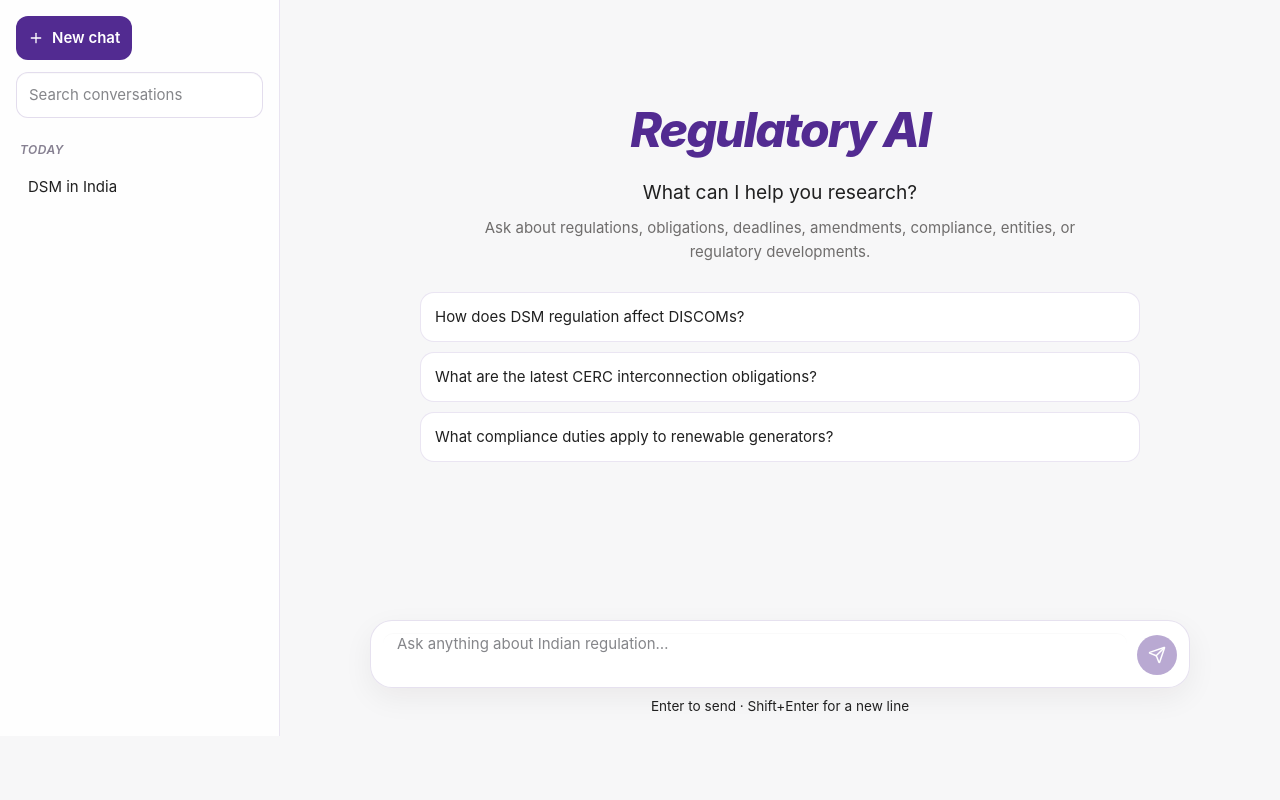
Test: AskConversationWorkspace › restores a conversation from history without regenerating
The width and height of the screenshot is (1280, 800).
What coordinates should you click on to do the following:
click the button "DSM in India"
I would click on:
 (140, 187)
Its box is [16,165,263,209].
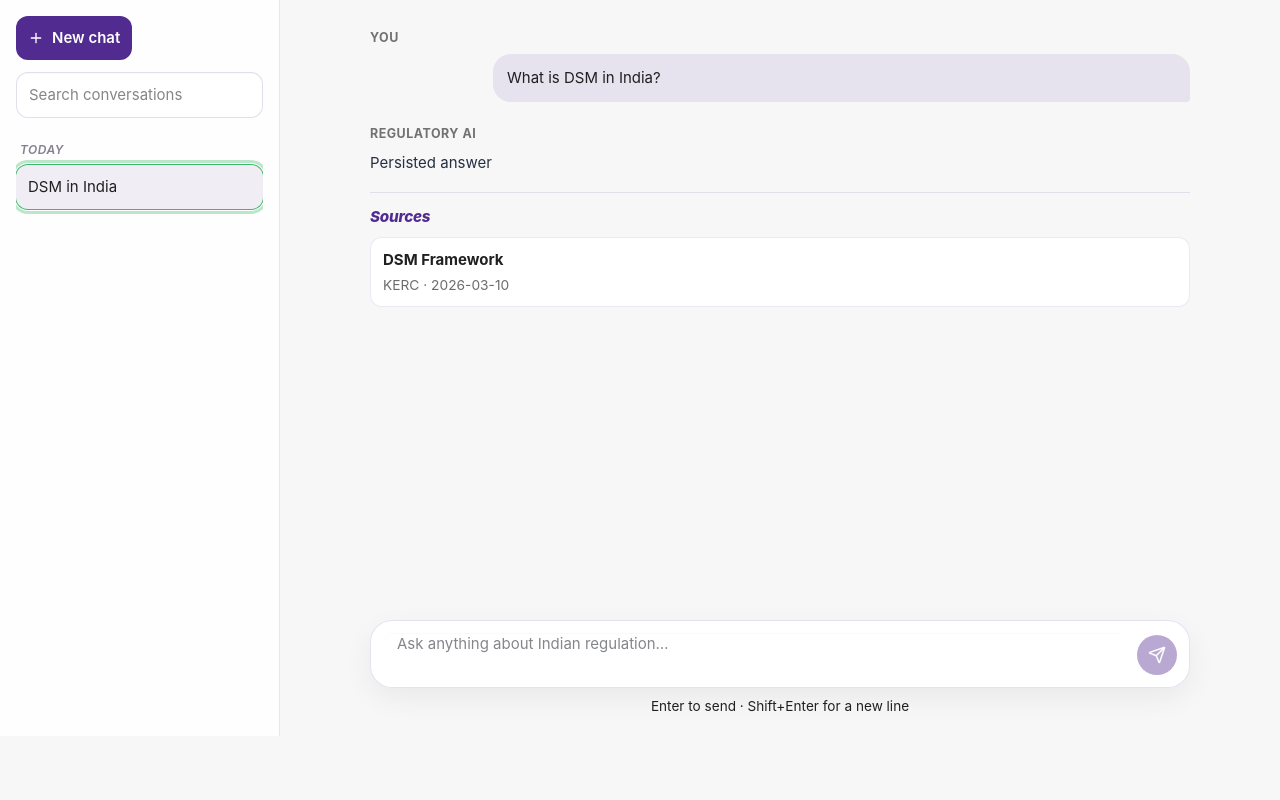
Expected: the text "Persisted answer" is shown, [370,153,492,172]
